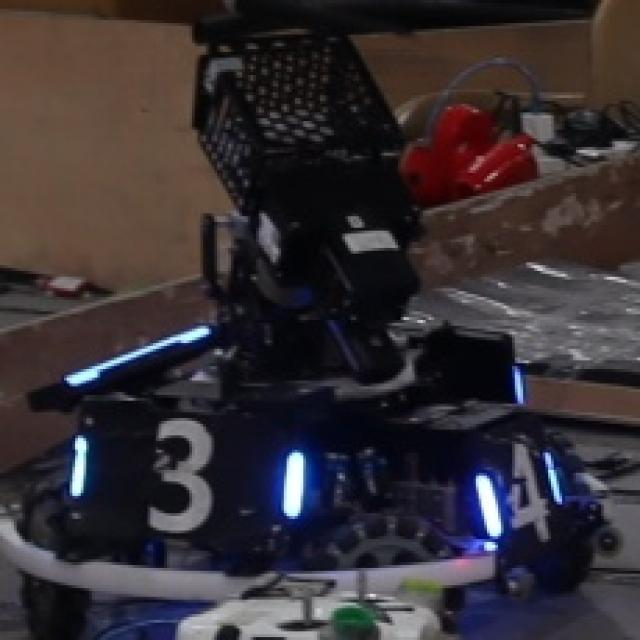B3: (61, 412, 312, 536)
B4: (473, 438, 565, 542)
